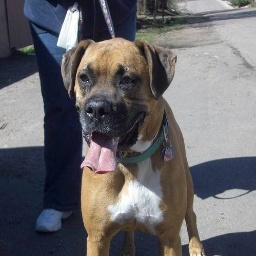dog: (61, 36, 189, 256)
